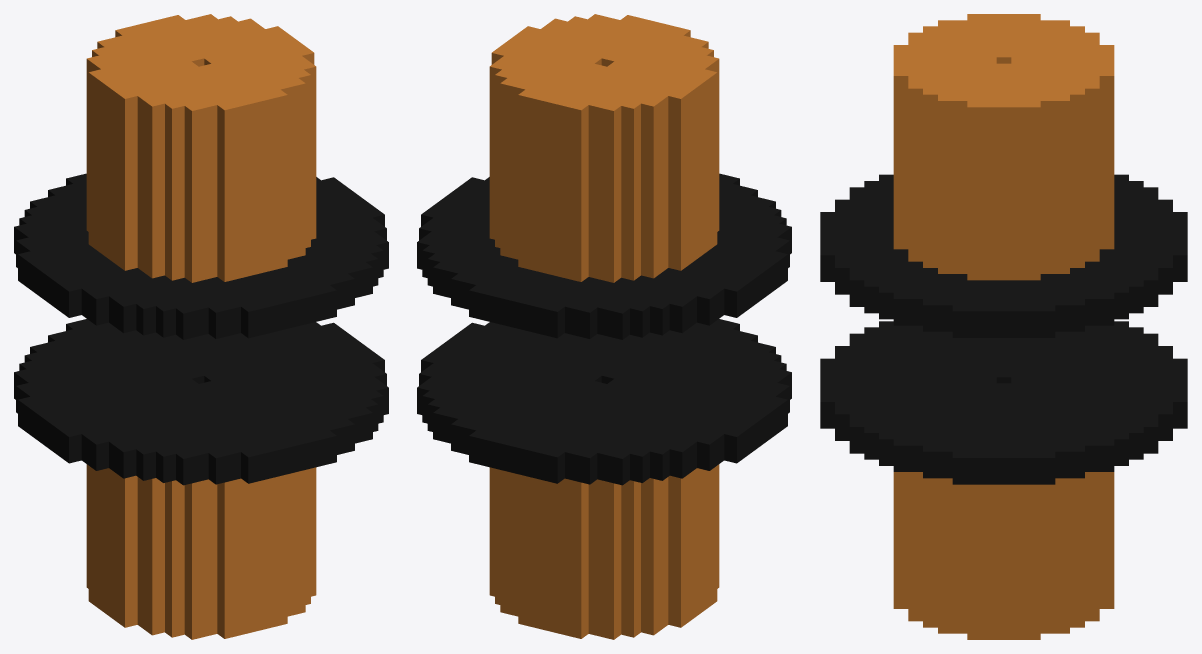
File: cable_gap.obj
The picture shows the model from 3 angles, left to right: view 1: azimuth 30°, elevation 25°; view 2: azimuth 150°, elevation 25°; view 3: azimuth 270°, elevation 25°; orthographic projection.
Parts seen in each view (by area): view 1: cable_gap; view 2: cable_gap; view 3: cable_gap.
Part boxes in pixels (bbox=[...]): cable_gap: bbox=[14, 14, 388, 639]; cable_gap: bbox=[417, 14, 791, 639]; cable_gap: bbox=[820, 14, 1187, 639].
Size of the model in its own units: 25 by 40 by 25.
Materials: 1 (1 with a texture image).
